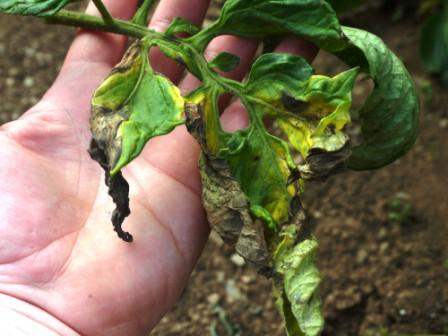Potato leaf late blight: (200, 124, 334, 332), (77, 31, 192, 248), (250, 50, 355, 163)
